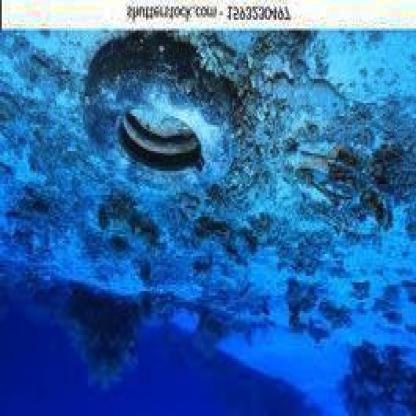tire: (77, 26, 232, 195)
